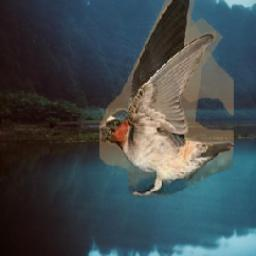Swallow: (100, 0, 235, 198)
